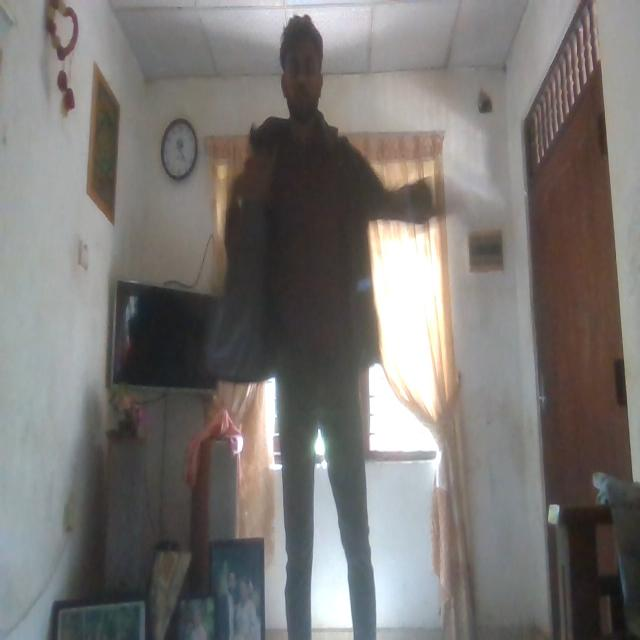Jacket_Wearer: (224, 124, 430, 377)
Person: (233, 10, 386, 640)
